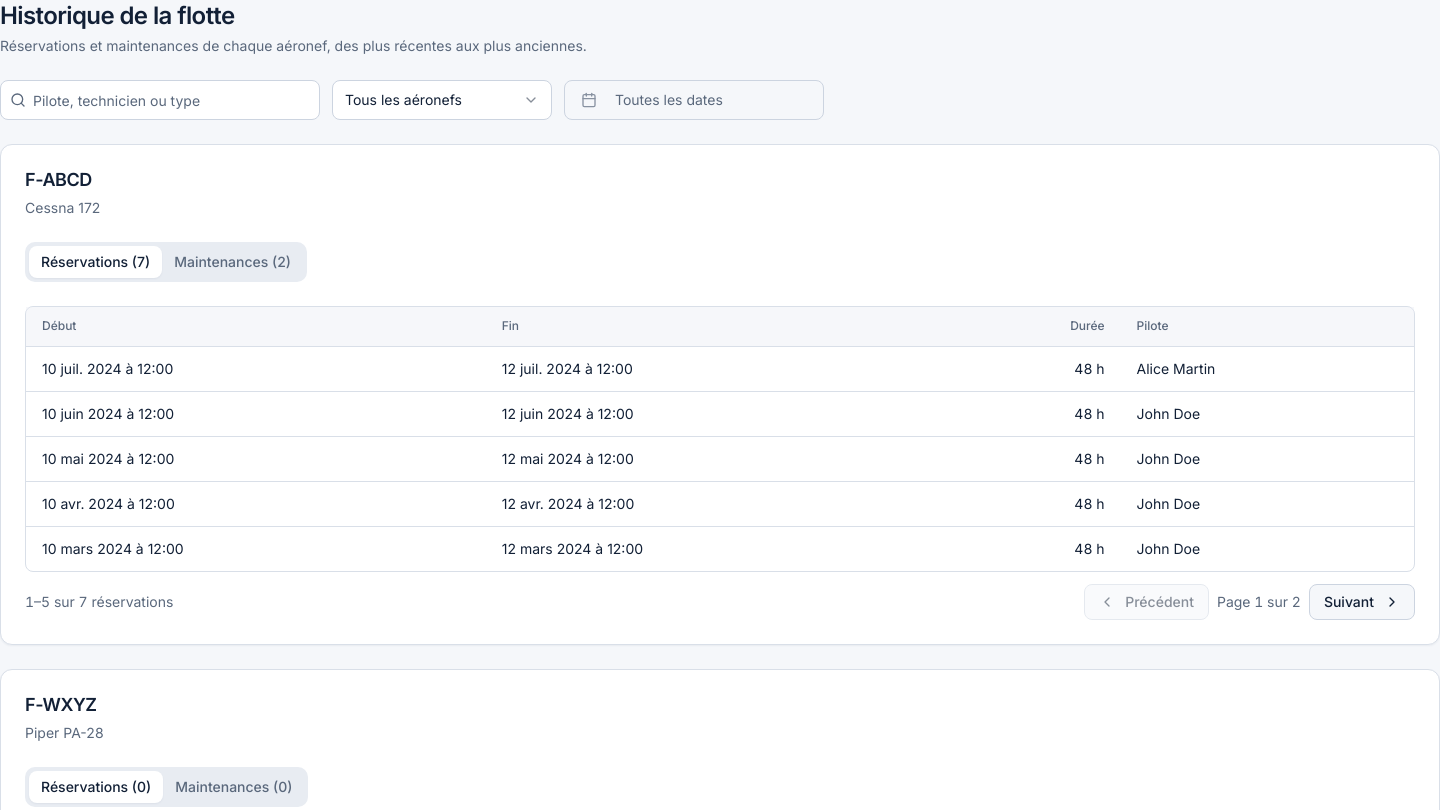
Test: AircraftHistory Component › doit revenir sur la première page quand un filtre réduit la liste
This screenshot has width=1440, height=810.
Check: the text "F-ABCD" is shown, box [25,169,92,190]
Click the button "Suivant" at {"x": 1362, "y": 602}, box [1309,584,1415,620]
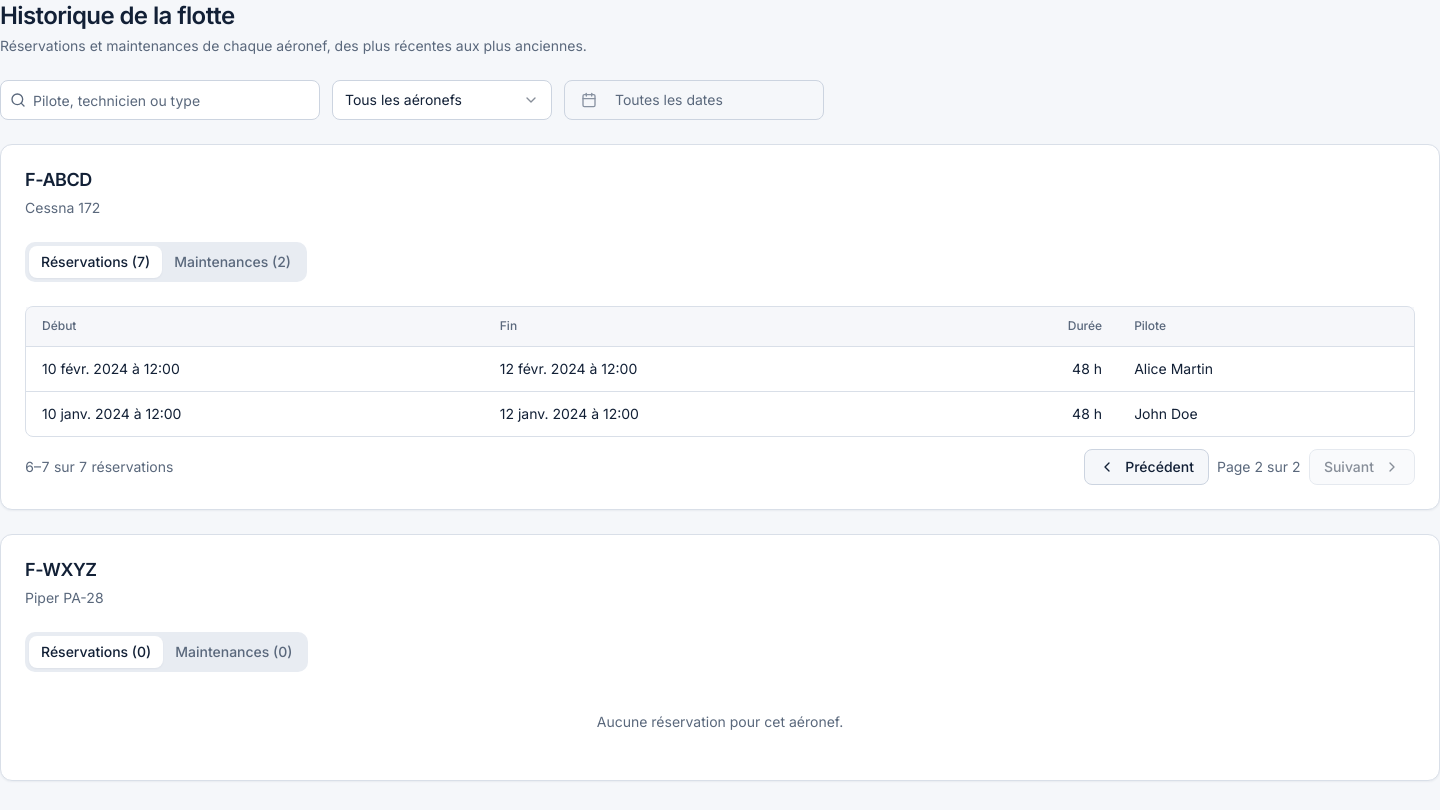
Check: the text "Page 2 sur 2" is shown, box [1217,457,1301,477]
Type "alice" into the field named "Rechercher dans l'historique" at {"x": 160, "y": 100}, box [0,80,320,120]
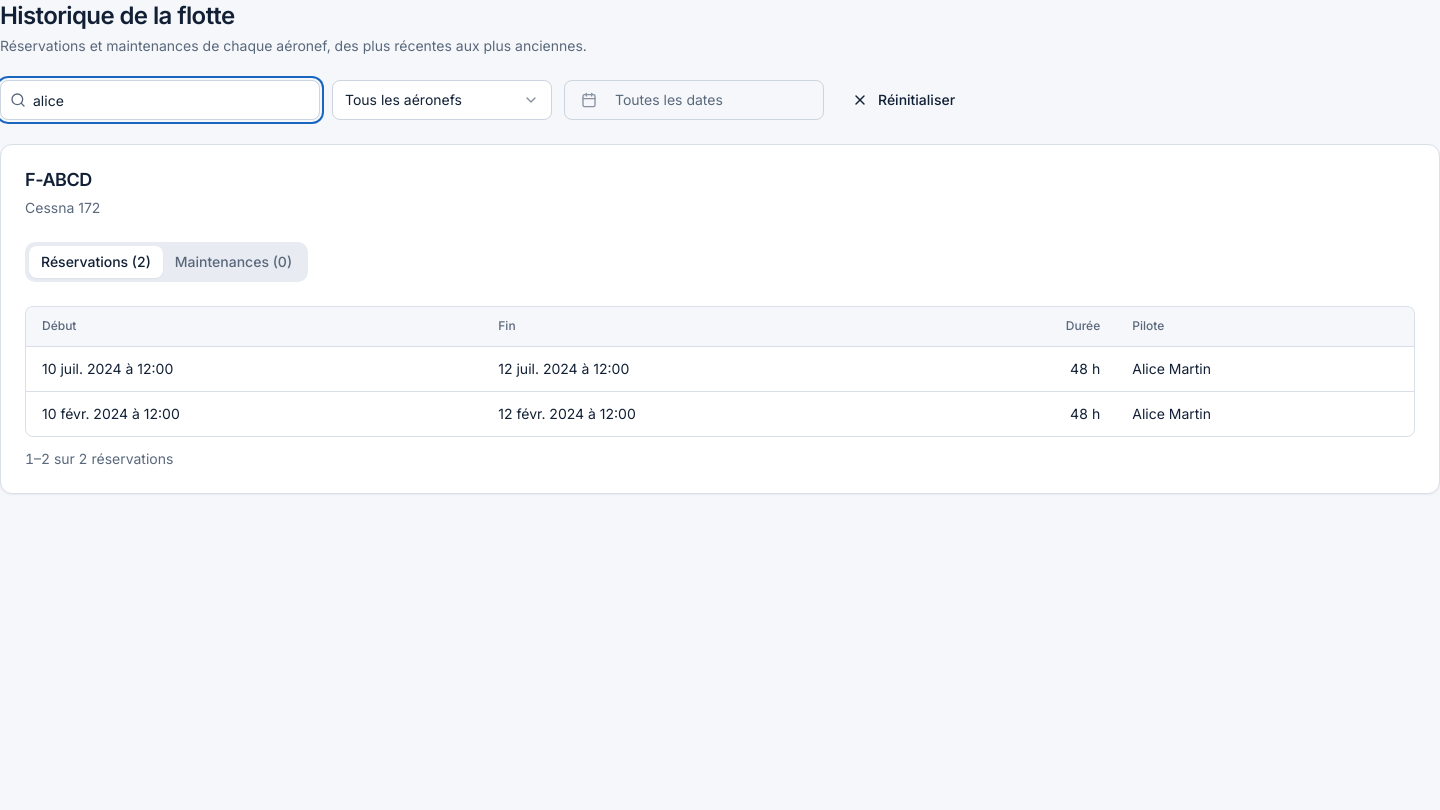
Check: the 2nd text "Alice Martin" is shown, box [1116,392,1414,436]
Check: the text "Alice Martin" in the row of "10 juil. 2024 à 12:00" is shown, box [1132,360,1211,377]
